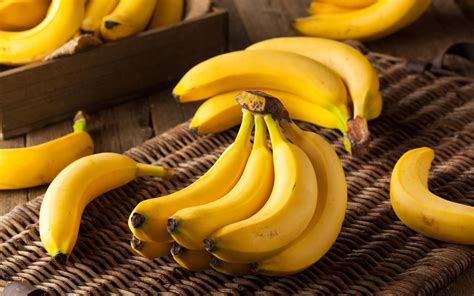banana: (205, 139, 319, 264), (171, 48, 354, 124), (33, 148, 142, 266), (165, 140, 272, 249), (388, 143, 474, 246), (1, 128, 96, 191)
